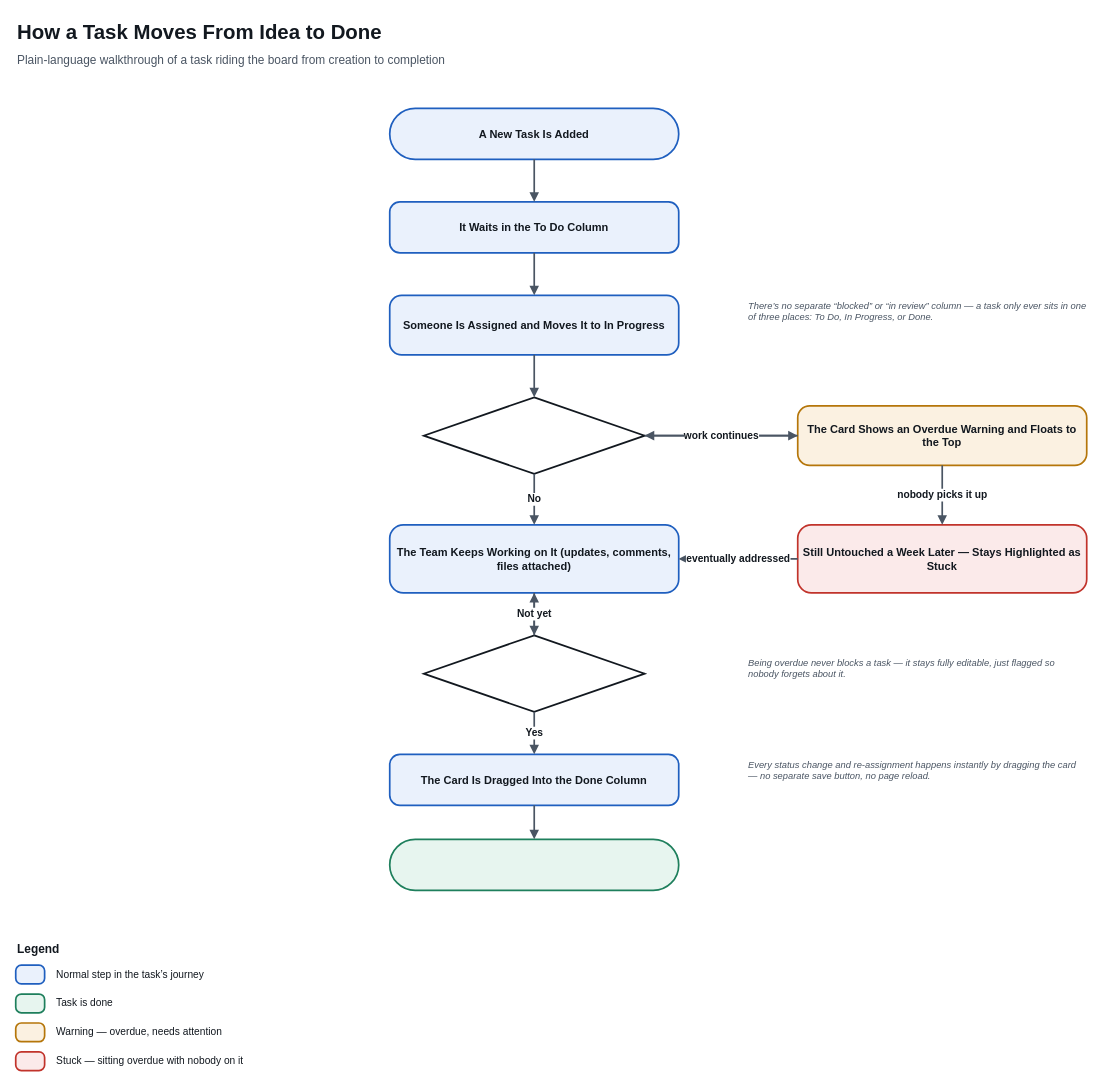
Image size: 1102x1087. Some labels were removed from this diagram. Each missing label, with the centre of its shape:
Has the Due Date Passed While It’s Still Open?: the point at 533,435
Is the Work Actually Finished?: the point at 533,673
Task Is Complete: the point at 533,864
